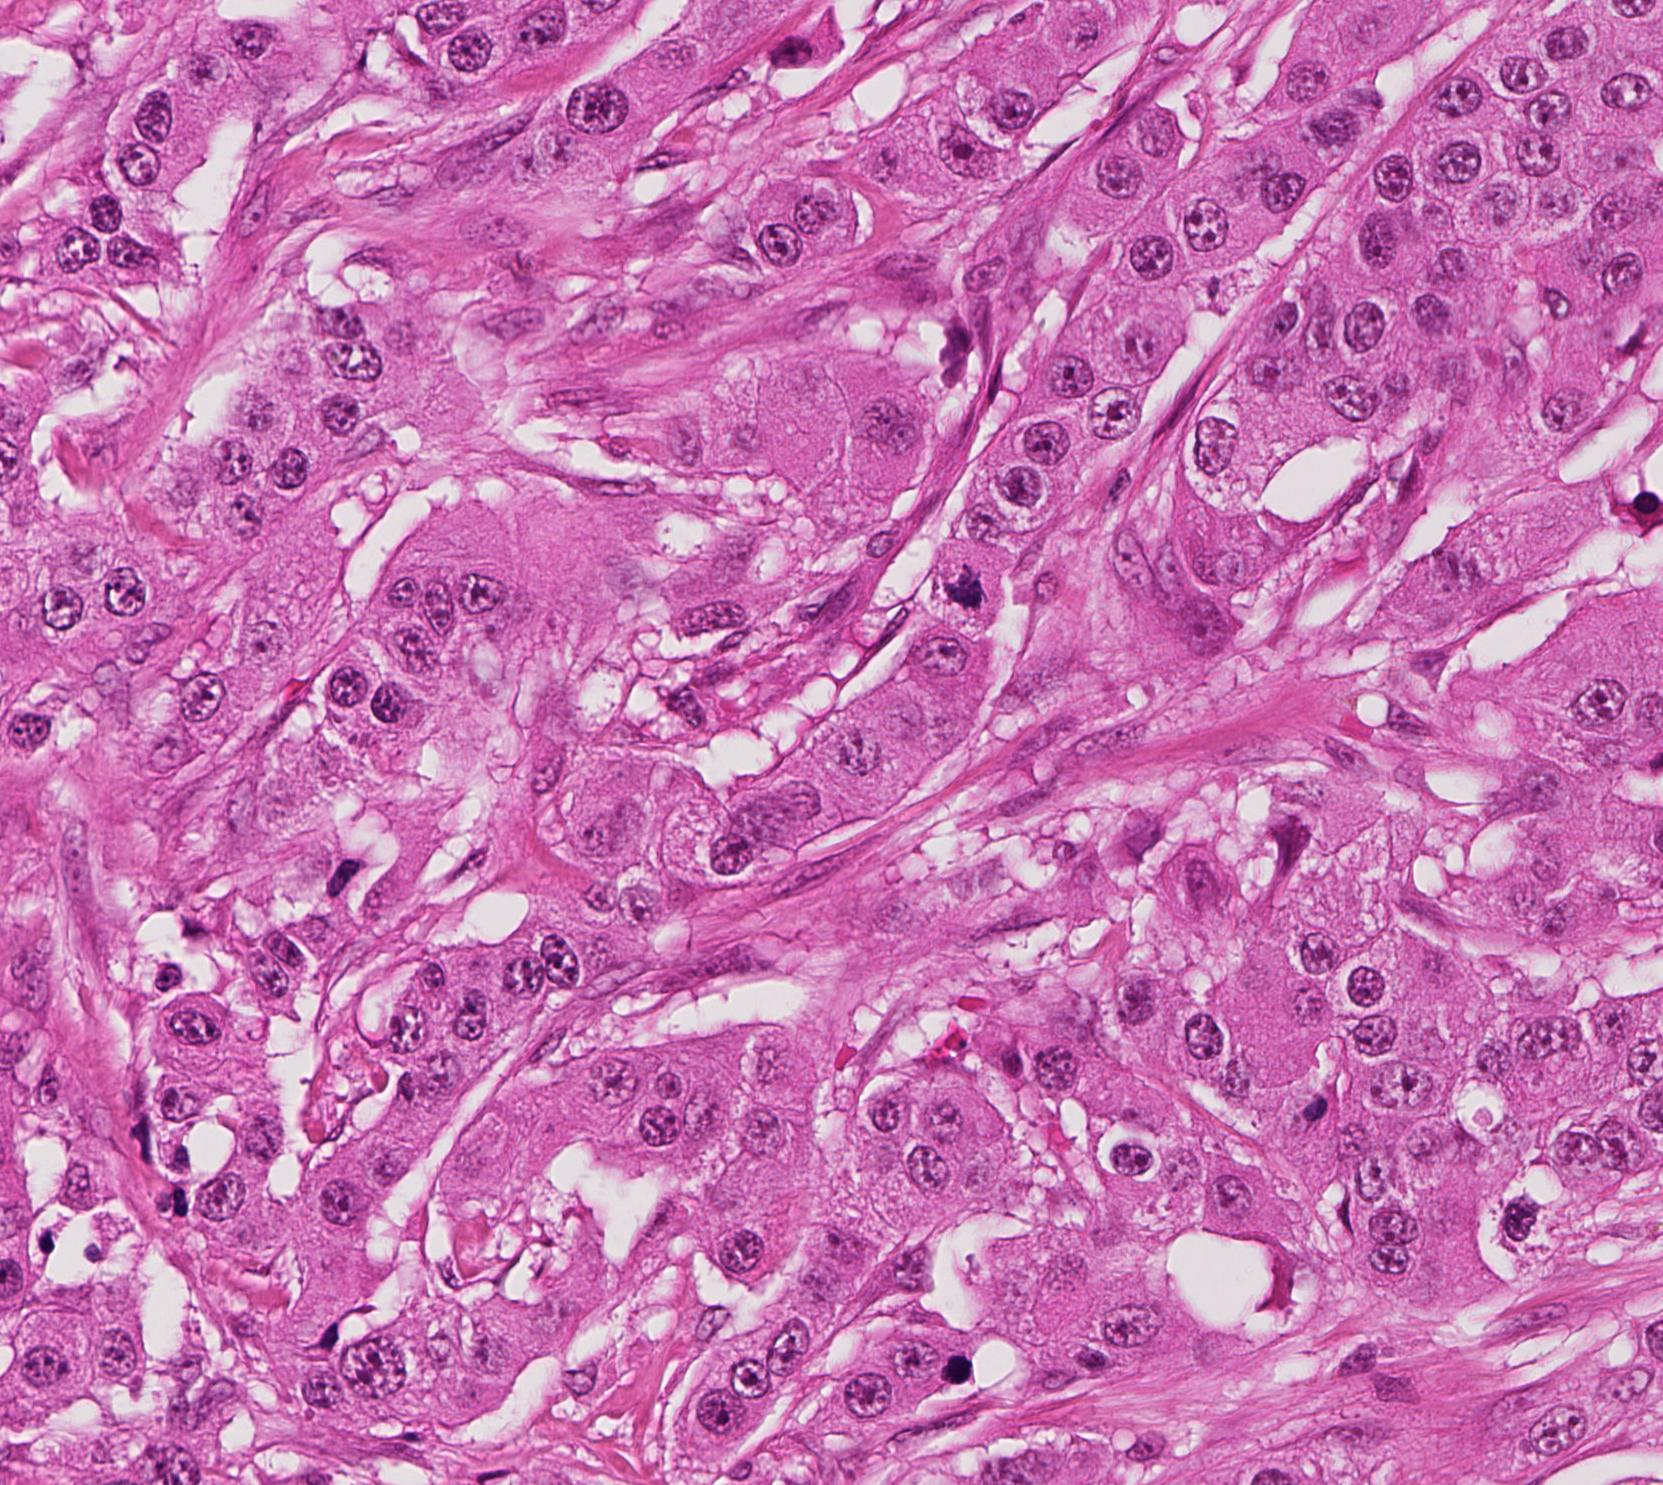mitosis: (926, 548, 986, 608)
